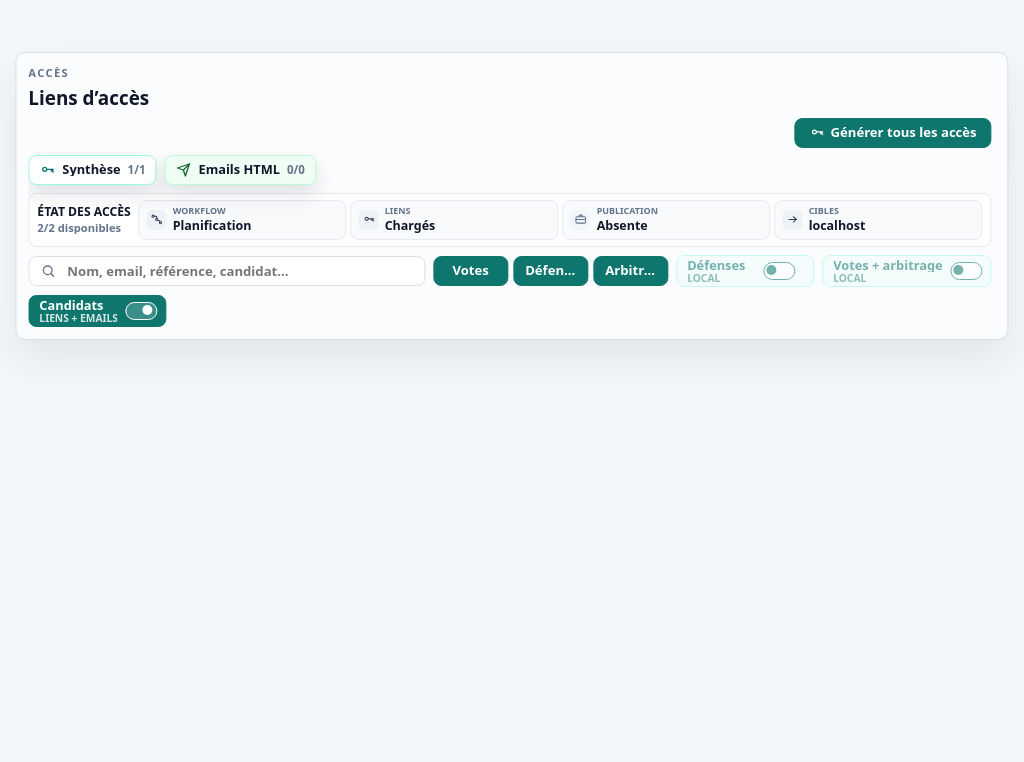
it: GenToken generation command › prépare un seul email de défense avec la consigne de demande exceptionnelle
Click the button with aria-label "ouvrir la synthèse des accès": [92, 170] box left=28, top=155, right=156, bottom=185
(page scrolled)
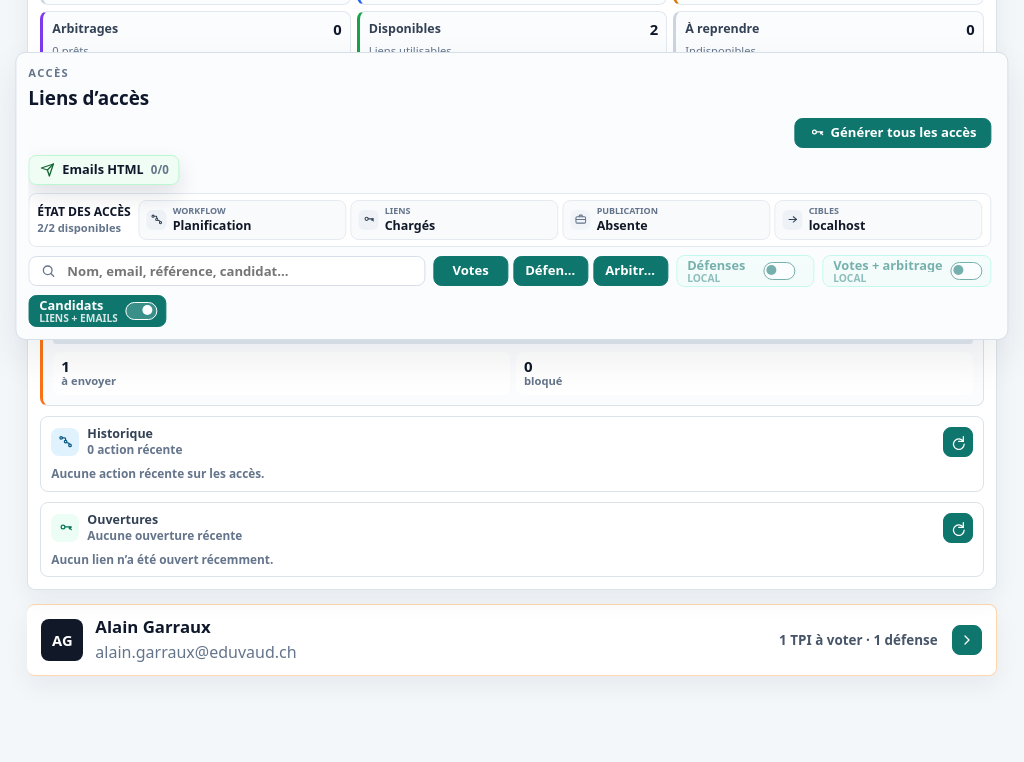
Expected: the text "0/1 transmis" is shown, left=89, top=314, right=163, bottom=330
Click the button named "ouvrir le bloc de Alain Garraux": [967, 640] box left=952, top=625, right=982, bottom=655
(page scrolled)
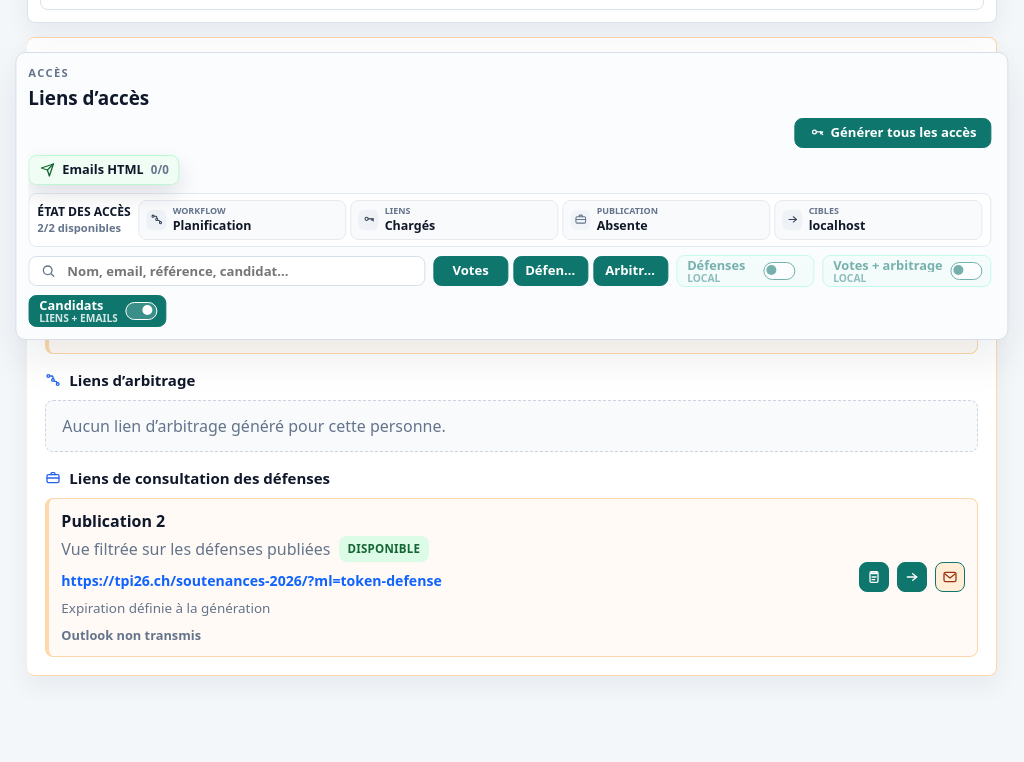
Click the button named "préparer outlook pour Publication 2": [950, 578] box left=935, top=562, right=965, bottom=592
(page scrolled)
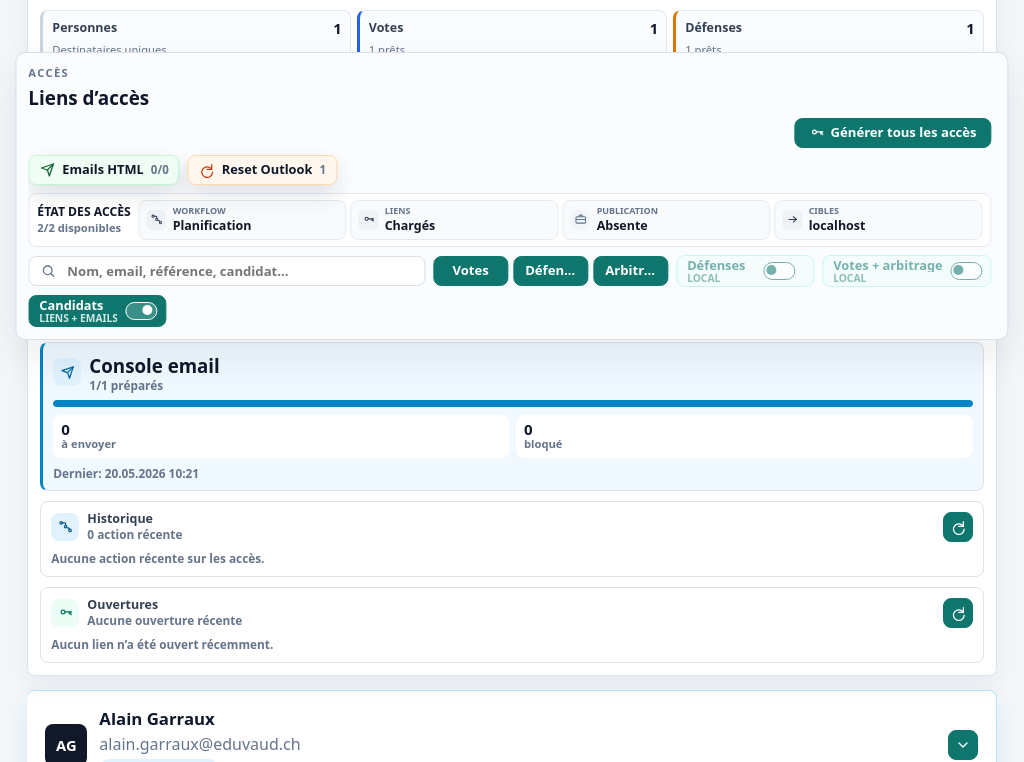
Expected: the text "1/1 préparés" is shown, left=89, top=377, right=163, bottom=393
